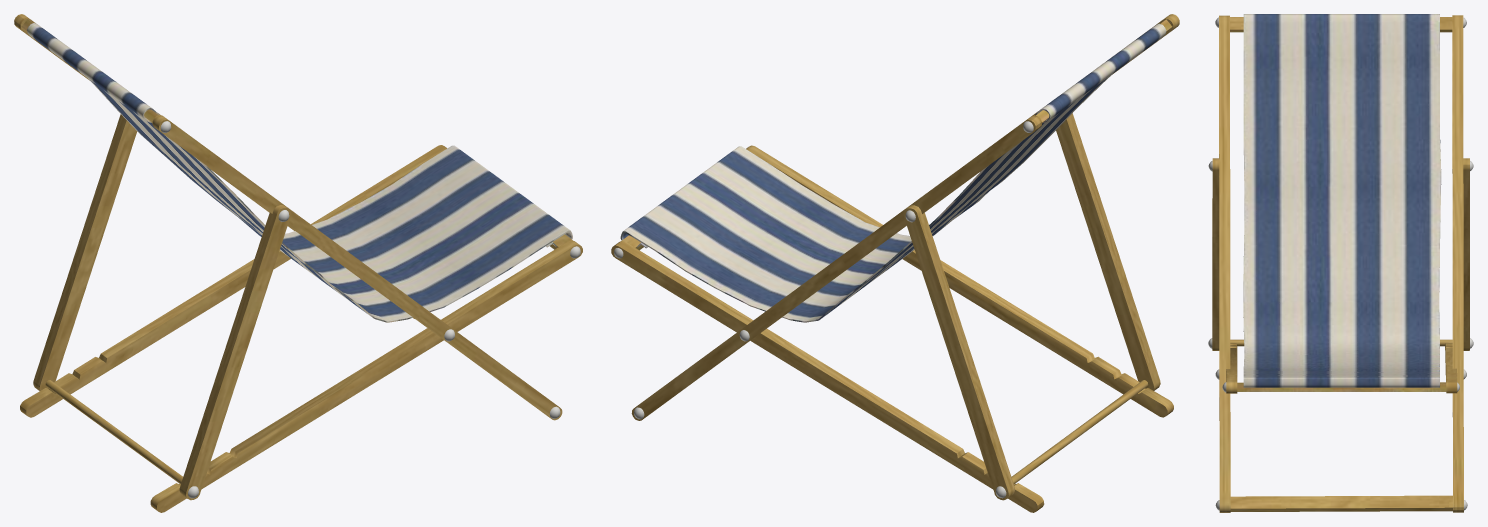
The model's file is deckchair-striped.glb.
The picture shows the model from 3 angles, left to right: view 1: azimuth 30°, elevation 25°; view 2: azimuth 150°, elevation 25°; view 3: azimuth 270°, elevation 25°; orthographic projection. The views are drawn at different scales.
Visible parts, largest first — view 1: deckchair; view 2: deckchair; view 3: deckchair.
Part boxes in pixels (left/top/right/bottom): deckchair: left=14, top=14, right=582, bottom=512; deckchair: left=611, top=14, right=1179, bottom=512; deckchair: left=1208, top=14, right=1473, bottom=512.
Size of the model in its own units: 1.02 by 0.9 by 0.6449.
Materials: 1 (1 with a texture image).
